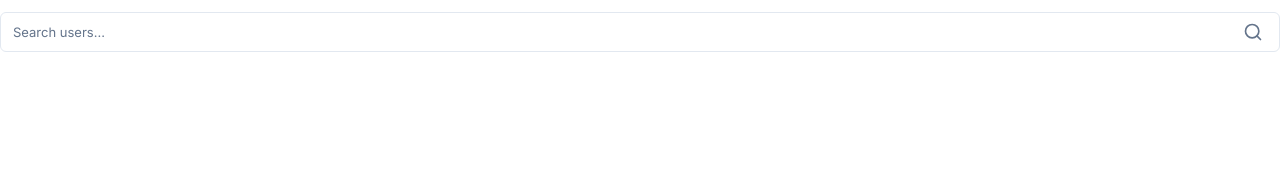
it: UserLookup › can show only a user's name in the full-size results
This screenshot has width=1280, height=187.
Focus the dropdown labelled "user": coordinates (622, 32) [13, 14, 1231, 50]
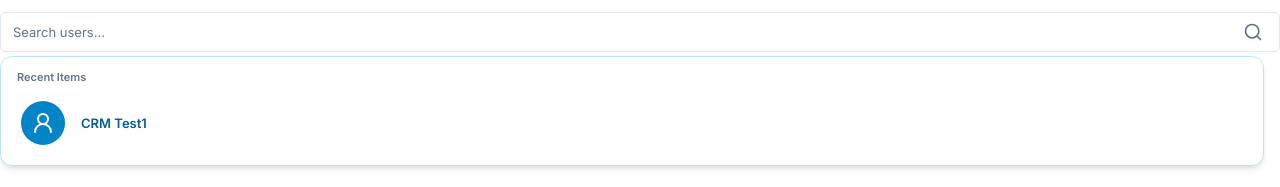
Check: the option "CRM Test1" is shown, box [9, 89, 1255, 157]
